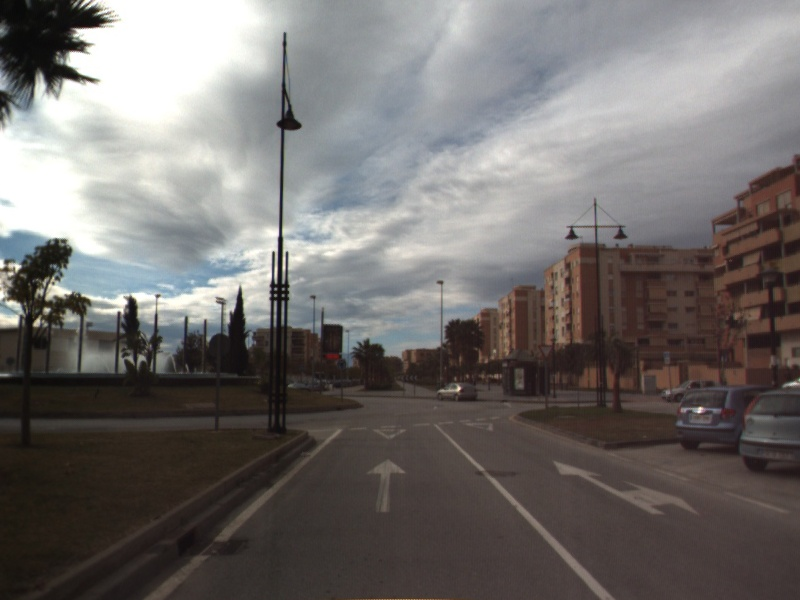STRAIGHT: (364, 456, 408, 515)
STRAIGHT_RIGHT: (551, 458, 702, 518)
